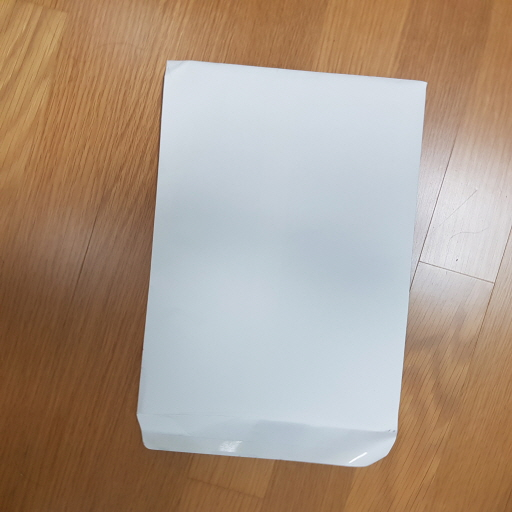Paper_2: (131, 49, 430, 484)
